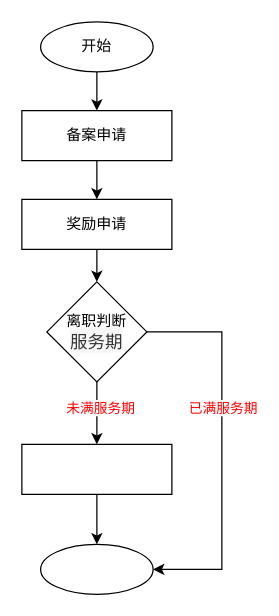
Image size: 279x616. Some labels were removed from this diagram. The centre of each missing label's shape, as x and y in pixels:
扣费: point (96, 468)
结束: point (96, 568)
